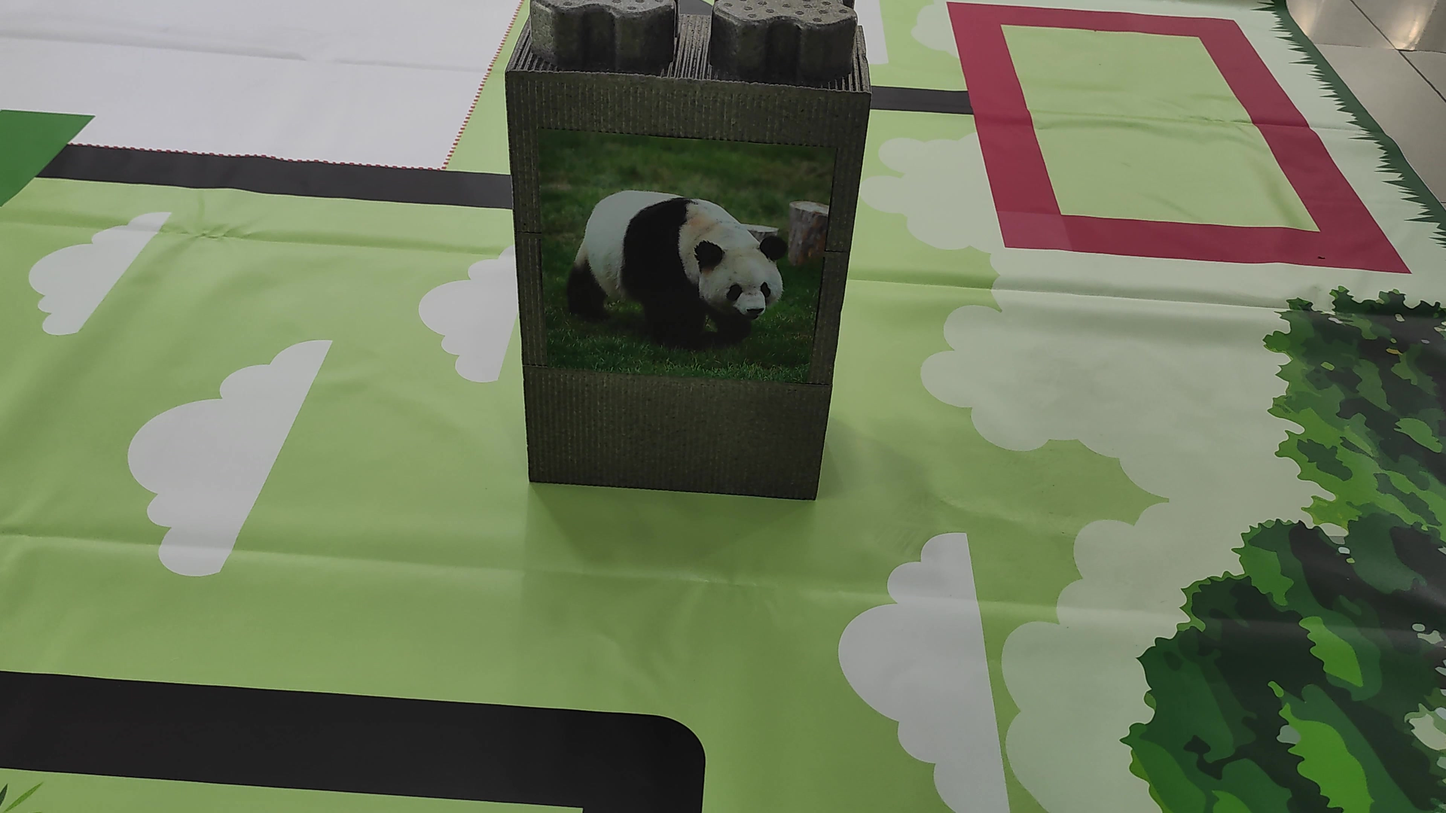panda: (554, 174, 795, 365)
